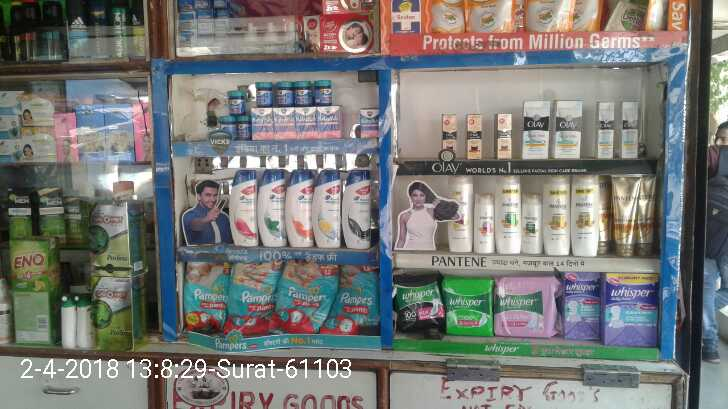vicks: (294, 108, 319, 138), (319, 108, 341, 139), (252, 109, 275, 137), (360, 109, 379, 140), (275, 109, 294, 138), (256, 84, 272, 106), (230, 89, 243, 116), (317, 80, 332, 102), (279, 81, 292, 106), (221, 118, 237, 137), (238, 116, 252, 137), (299, 81, 312, 101)
